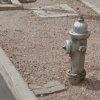a fire hydrant: (66, 19, 95, 88)
